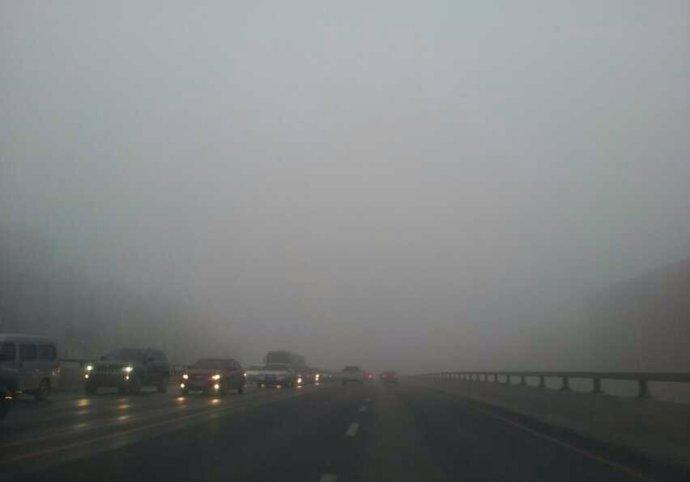bus: (263, 350, 306, 378)
car: (82, 347, 171, 396), (1, 333, 62, 404), (180, 356, 248, 398), (255, 362, 295, 390), (296, 367, 324, 386), (242, 364, 267, 385), (340, 365, 364, 385), (314, 368, 336, 384), (380, 369, 400, 383), (357, 368, 373, 382)
